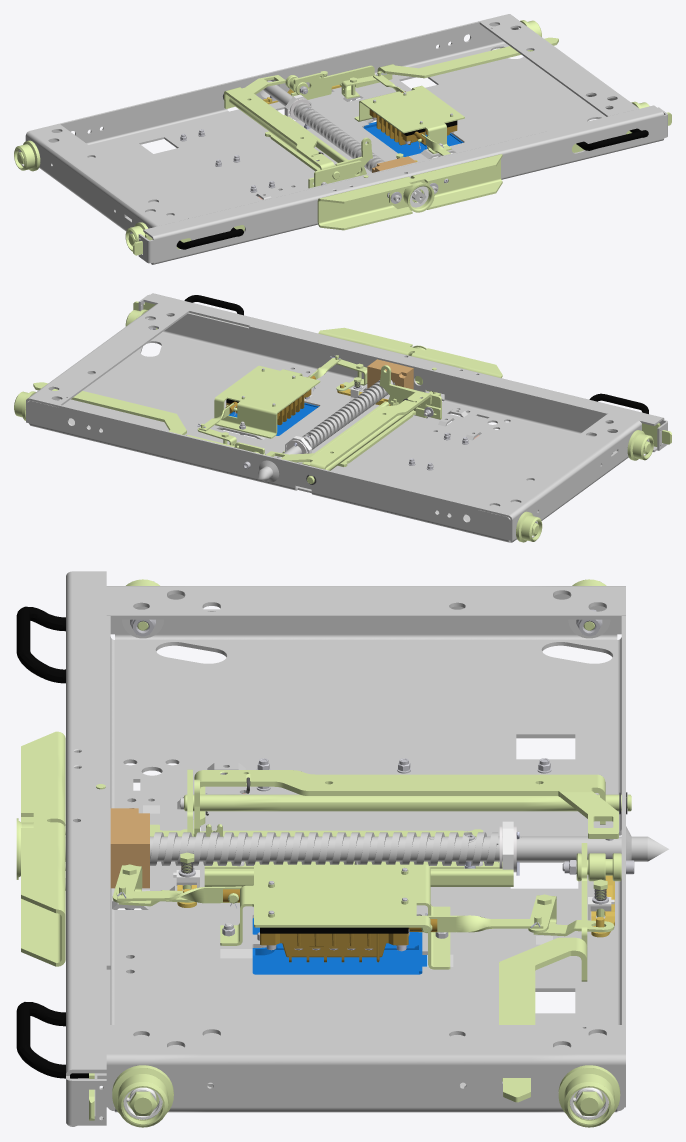
The model's file is 11.3_vykatnaya-telezhka-dpc-4-1000.glb.
The picture shows the model from 3 angles, top to bottom: view 1: azimuth 30°, elevation 25°; view 2: azimuth 150°, elevation 25°; view 3: azimuth 270°, elevation 25°; orthographic projection. The views are drawn at different scales.
Parts seen in each view (by area): view 1: 71; view 2: 71; view 3: 71.
Part boxes in pixels (left/top/right/bottom): 71: left=14, top=14, right=671, bottom=264; 71: left=14, top=293, right=671, bottom=542; 71: left=16, top=571, right=668, bottom=1127.
Bounding box in the file's own units: 886 × 72.77 × 465.
